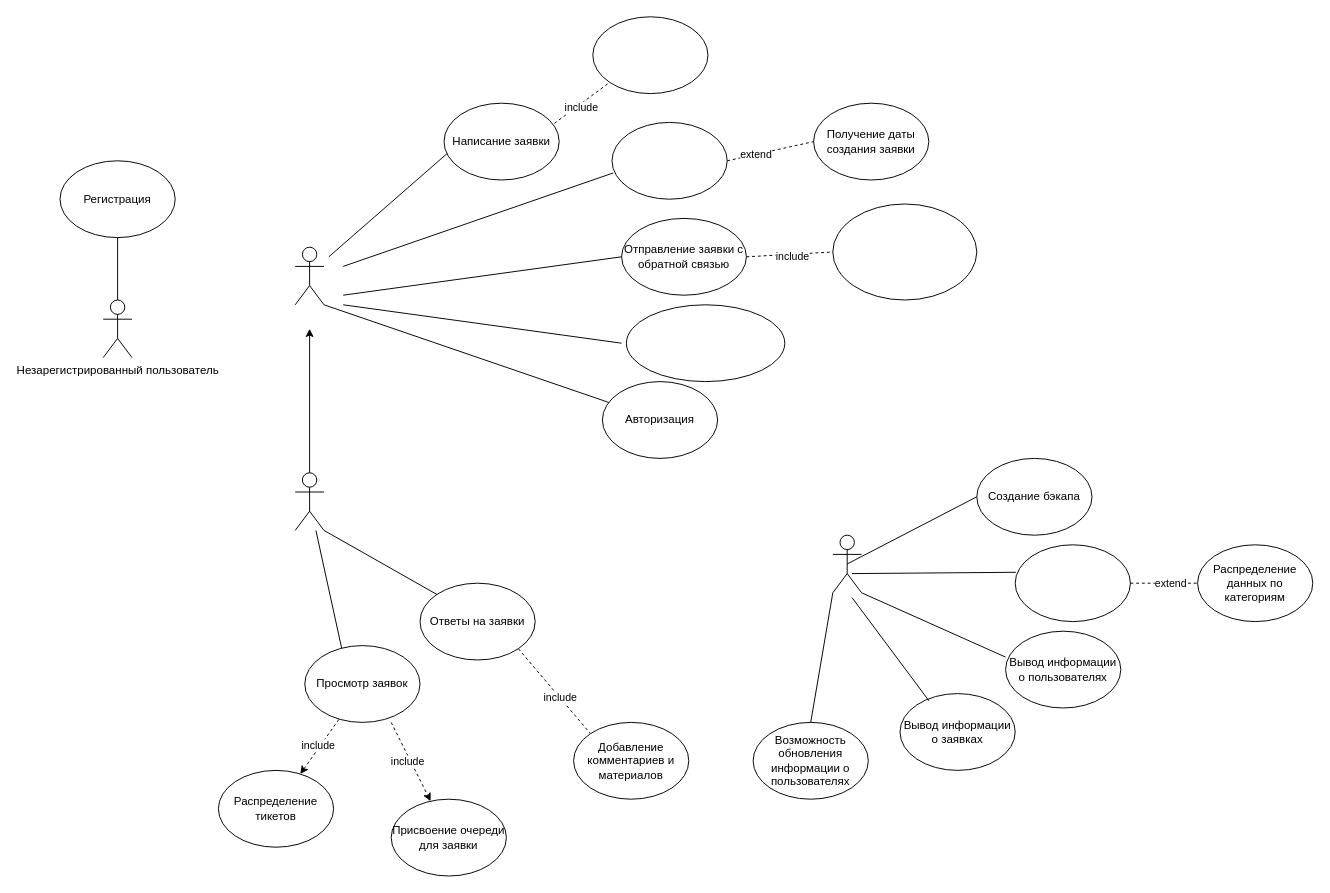
Some shapes in this 1330 by 893 pixel diagram are drawn without their labels. Here are the shapes that lost their labels. From the top down, the centre of each, then its label:
At point 650,55: "Присвоение тикета, а также важности заявки".
At point 669,160: "Получение заявки".
At point 904,251: "При завершении диалога с оператором перенос в архив".
At point 309,275: "Зарегистрированный пользователь".
At point 705,343: "Получение ответа от заявки".
At point 309,501: "Оператор поддержки".
At point 847,563: "Администратор БД".
At point 1072,583: "Архивация данных".
